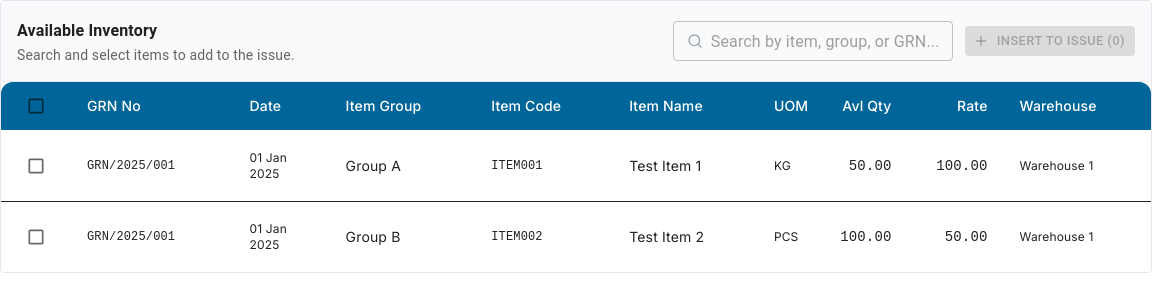
it: InventorySearchTable › Selection › should select all rows on header checkbox click
Check: the text "Test Item 1" is shown, box 613,130 -> 758,201
# Click the header checkbox (first one)
What coordinates should you click on to do the following:
click the checkbox next to "GRN No"
I would click on:
 (36, 106)
Its box is 26,96 -> 46,116.
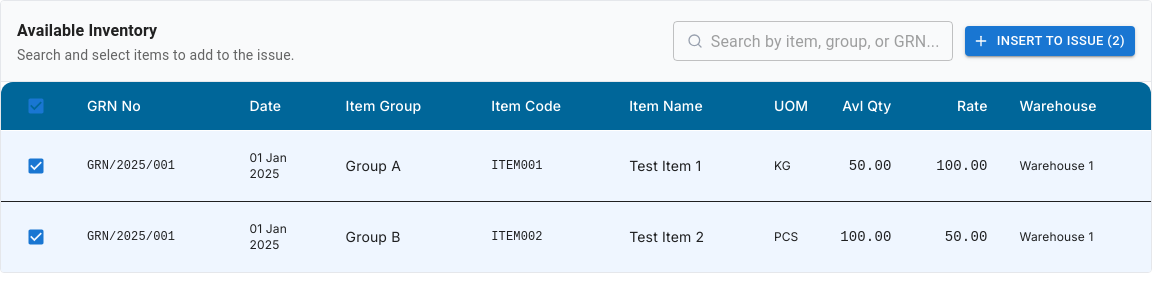
Check: the button "Insert to Issue (2)" is shown, box 965,26 -> 1135,56
